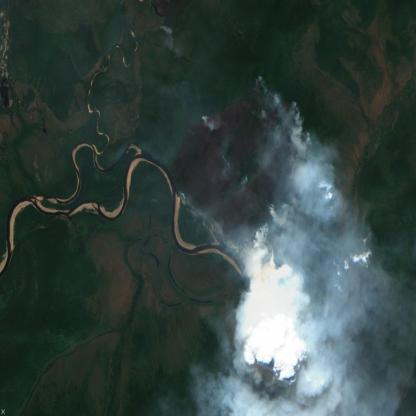fire: (168, 72, 313, 271)
